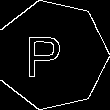P_N: (33, 30, 71, 80)
